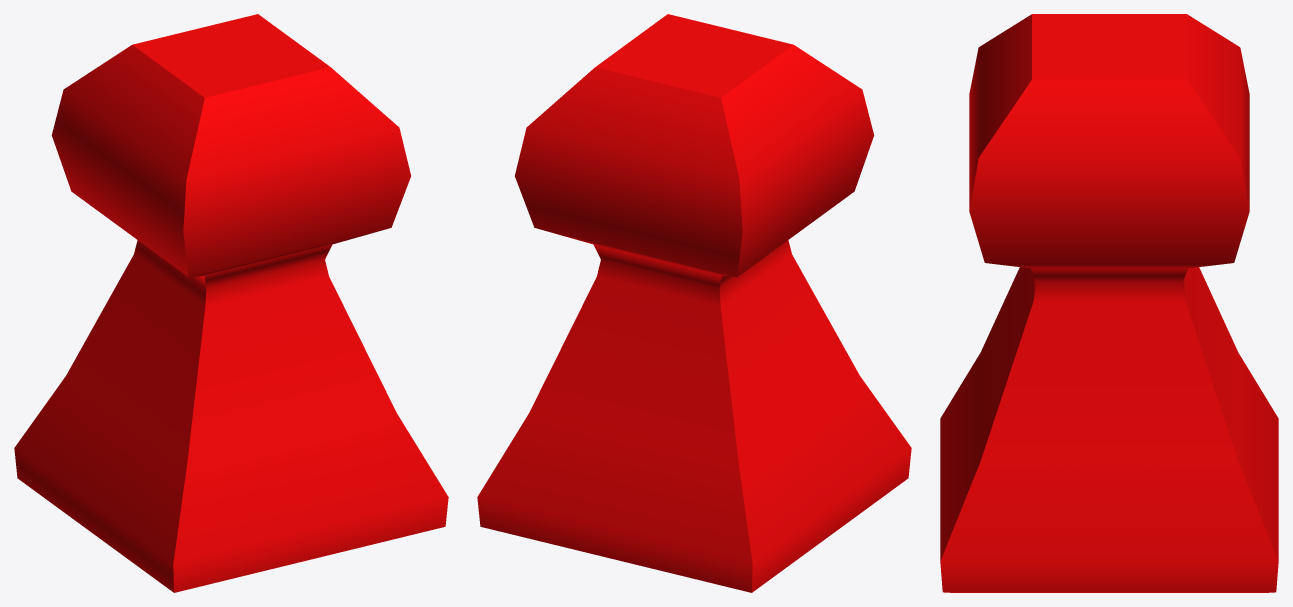
The model's file is smoothgubbe.obj.
The picture shows the model from 3 angles, left to right: view 1: azimuth 30°, elevation 25°; view 2: azimuth 150°, elevation 25°; view 3: azimuth 270°, elevation 25°; orthographic projection. The views are drawn at different scales.
Visible parts, largest first — view 1: pCube1; view 2: pCube1; view 3: pCube1.
Boxes of the visible parts, <box> form: pCube1: <box>14,14,448,592</box>; pCube1: <box>477,14,911,592</box>; pCube1: <box>940,14,1278,592</box>.
Bounding box in the file's own units: 192 × 300 × 192.
